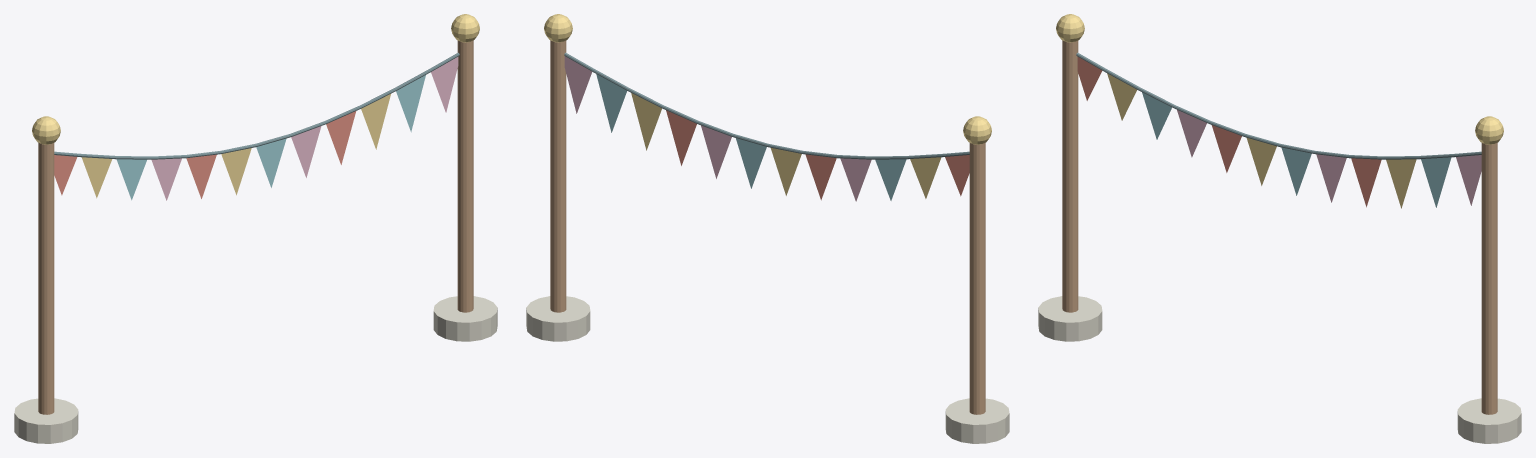
File: remaster_decor_bunting.glb
The picture shows the model from 3 angles, left to right: view 1: azimuth 30°, elevation 25°; view 2: azimuth 150°, elevation 25°; view 3: azimuth 330°, elevation 25°; orthographic projection.
Visible parts, largest first — view 1: Festival pole.002, Festival pole.003, Post footing.003, Post footing.002, Colourful pennant.022, Colourful pennant.023, Colourful pennant.021, Colourful pennant.020, Colourful pennant.019, Colourful pennant.018, Colourful pennant.017, Colourful pennant.016 (+6 smaller); view 2: Festival pole.002, Festival pole.003, Post footing.003, Post footing.002, Colourful pennant.022, Colourful pennant.021, Colourful pennant.023, Colourful pennant.020, Colourful pennant.019, Colourful pennant.018, Colourful pennant.017, Colourful pennant.016 (+6 smaller); view 3: Festival pole.003, Festival pole.002, Post footing.002, Post footing.003, Colourful pennant.022, Colourful pennant.021, Colourful pennant.020, Colourful pennant.023, Colourful pennant.019, Colourful pennant.018, Colourful pennant.017, Colourful pennant.016 (+6 smaller).
Boxes of the visible parts, x1=… form: Festival pole.002: x1=38, y1=142, x2=54, y2=414; Festival pole.003: x1=457, y1=40, x2=473, y2=312; Post footing.003: x1=433, y1=296, x2=497, y2=341; Post footing.002: x1=14, y1=398, x2=78, y2=443; Colourful pennant.022: x1=396, y1=75, x2=425, y2=132; Colourful pennant.023: x1=431, y1=57, x2=458, y2=112; Colourful pennant.021: x1=361, y1=94, x2=390, y2=149; Colourful pennant.020: x1=326, y1=111, x2=356, y2=164; Colourful pennant.019: x1=291, y1=126, x2=321, y2=177; Colourful pennant.018: x1=256, y1=138, x2=286, y2=187; Colourful pennant.017: x1=221, y1=148, x2=251, y2=195; Colourful pennant.016: x1=186, y1=154, x2=216, y2=198; Festival pole.002: x1=969, y1=142, x2=985, y2=414; Festival pole.003: x1=550, y1=40, x2=566, y2=312; Post footing.003: x1=526, y1=296, x2=590, y2=341; Post footing.002: x1=945, y1=398, x2=1009, y2=443; Colourful pennant.022: x1=596, y1=74, x2=626, y2=132; Colourful pennant.021: x1=631, y1=93, x2=661, y2=150; Colourful pennant.023: x1=564, y1=56, x2=591, y2=113; Colourful pennant.020: x1=666, y1=110, x2=696, y2=165; Colourful pennant.019: x1=701, y1=125, x2=731, y2=178; Colourful pennant.018: x1=736, y1=138, x2=766, y2=188; Colourful pennant.017: x1=770, y1=148, x2=801, y2=195; Colourful pennant.016: x1=805, y1=154, x2=836, y2=200; Festival pole.003: x1=1481, y1=142, x2=1497, y2=414; Festival pole.002: x1=1062, y1=40, x2=1078, y2=312; Post footing.002: x1=1038, y1=296, x2=1102, y2=341; Post footing.003: x1=1457, y1=398, x2=1521, y2=443; Colourful pennant.022: x1=1421, y1=157, x2=1451, y2=207; Colourful pennant.021: x1=1386, y1=159, x2=1416, y2=208; Colourful pennant.020: x1=1351, y1=158, x2=1381, y2=207; Colourful pennant.023: x1=1456, y1=155, x2=1481, y2=205; Colourful pennant.019: x1=1316, y1=154, x2=1346, y2=202; Colourful pennant.018: x1=1281, y1=147, x2=1311, y2=195; Colourful pennant.017: x1=1246, y1=138, x2=1276, y2=185; Colourful pennant.016: x1=1211, y1=125, x2=1241, y2=172.
Bounding box in the file's own units: 6.8 × 4.28 × 0.8.
